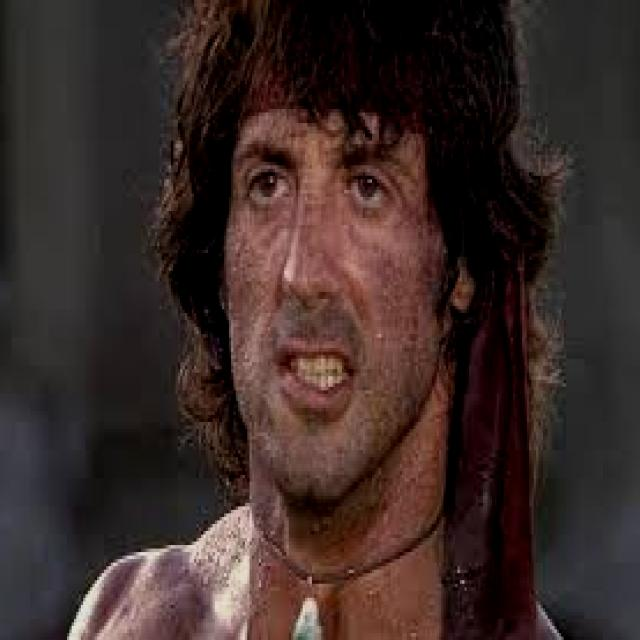normal_face: (170, 56, 464, 538)
